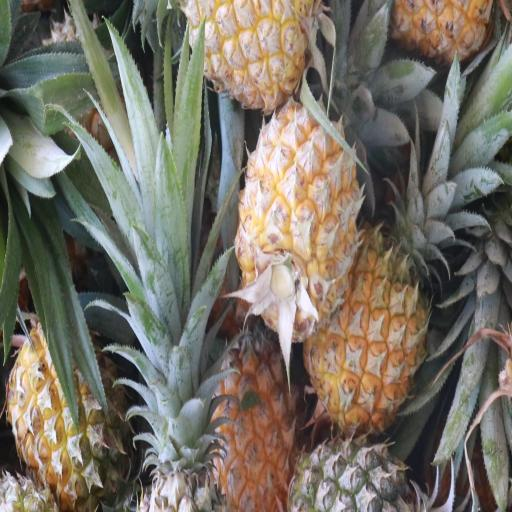------------------------------: (7, 300, 127, 492)
Pineapple - v8 v1: (237, 83, 356, 319), (308, 232, 428, 432), (207, 324, 298, 506), (184, 0, 311, 110)
